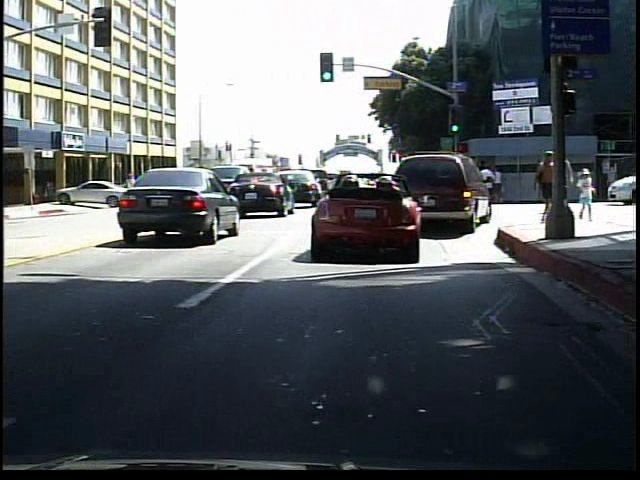person: (529, 148, 555, 222), (570, 169, 597, 223), (125, 172, 144, 205)
